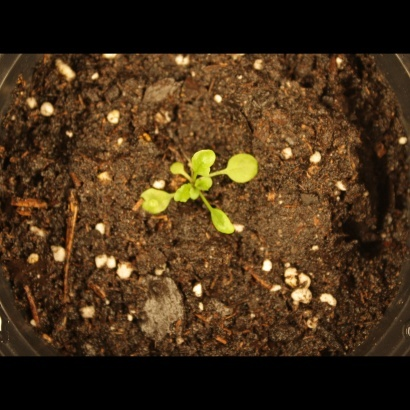leaf: (224, 151, 260, 186), (204, 206, 240, 238), (137, 185, 172, 216), (190, 145, 218, 178), (171, 182, 200, 206), (163, 155, 186, 178), (196, 177, 219, 200)
